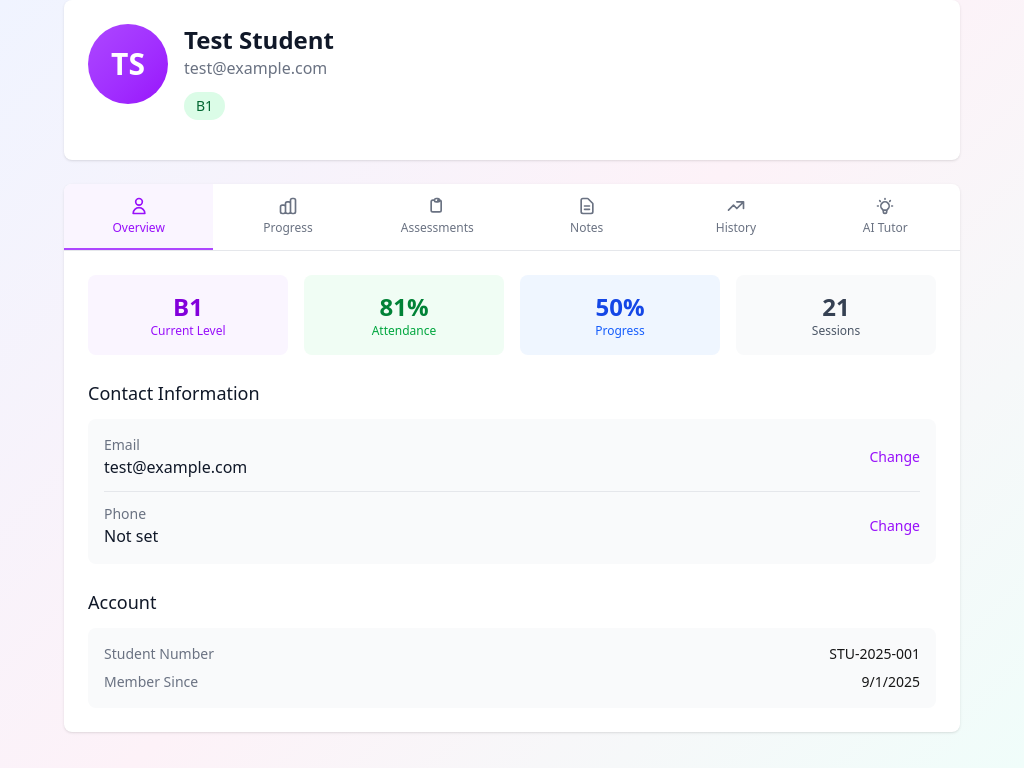
StudentProfilePage - Attendance Display › should show attendance breakdown in Progress tab
Note: Navigate to Progress tab - get all "Progress" elements and click the tab (first one)
Click the button "Progress": (288, 217) left=213, top=184, right=363, bottom=250
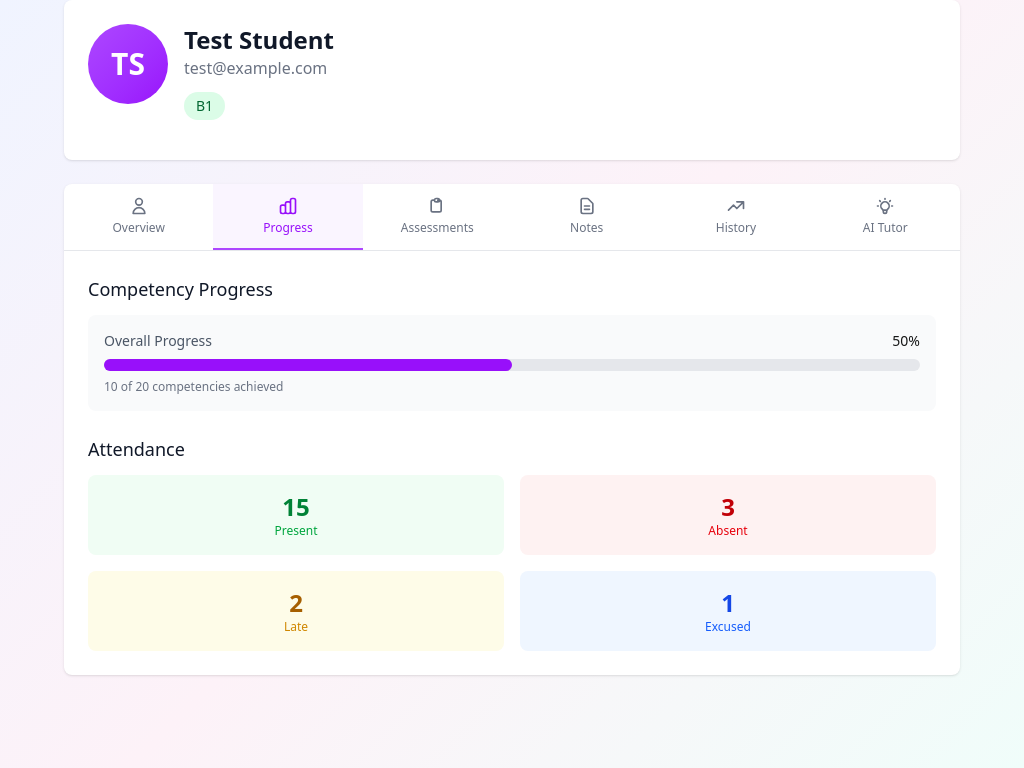
expect the text "2" is shown: met, box left=289, top=586, right=303, bottom=619
expect the text "15" is shown: met, box left=282, top=490, right=310, bottom=523
expect the text "3" is shown: met, box left=721, top=490, right=735, bottom=523
